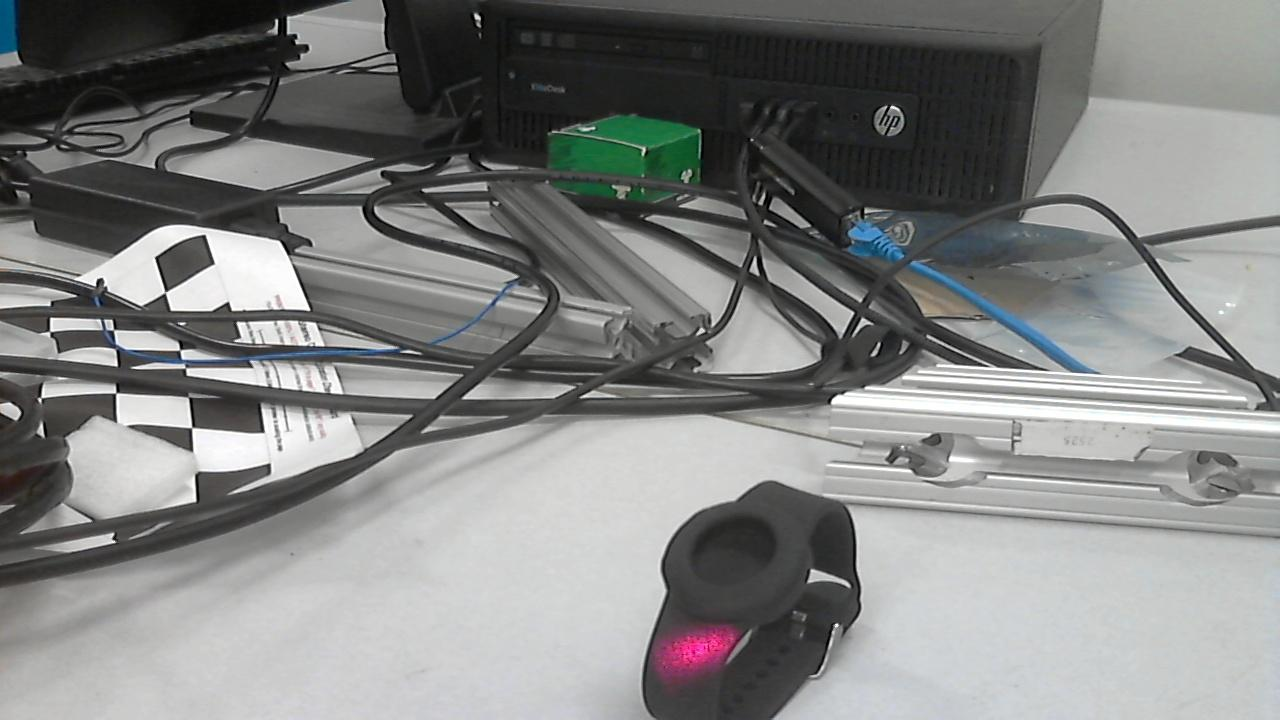Object fitness tracker replacement band - Material silicone - Pdfname fdfasdjhad: (618, 616, 745, 683)
